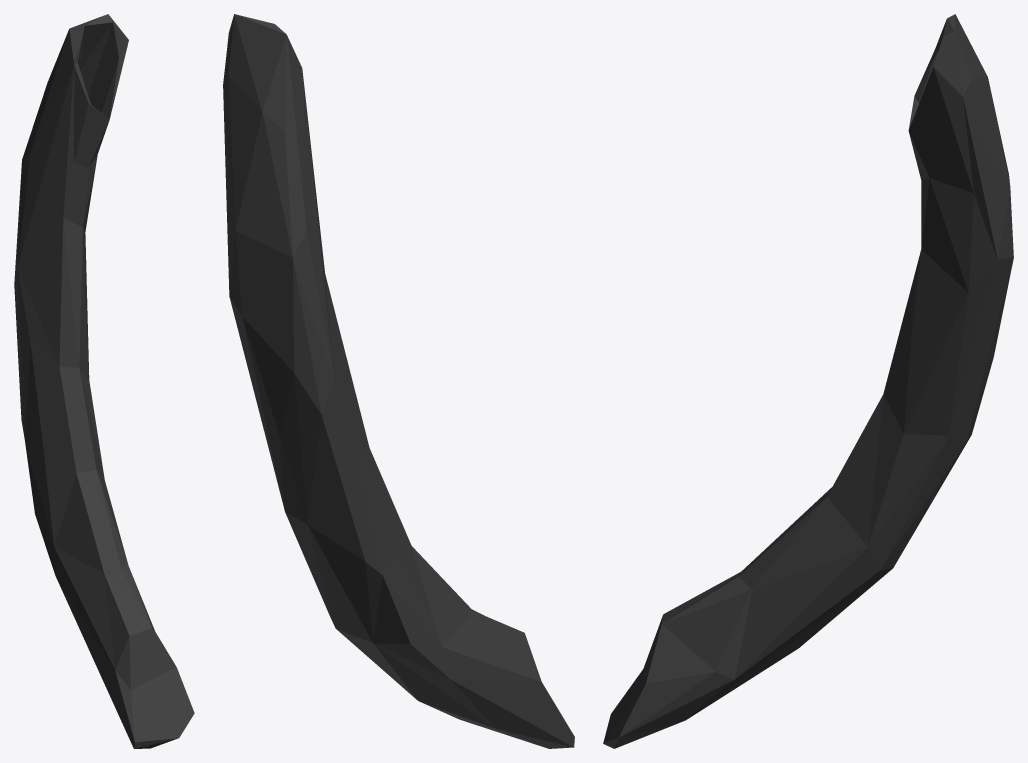
The picture shows the model from 3 angles, left to right: view 1: azimuth 30°, elevation 25°; view 2: azimuth 150°, elevation 25°; view 3: azimuth 270°, elevation 25°; orthographic projection. The views are drawn at different scales.
Parts seen in each view (by area): view 1: world; view 2: world; view 3: world.
Part boxes in pixels (box(x1,y1,x2,y2)): world: box(14, 14, 194, 748); world: box(223, 14, 574, 748); world: box(603, 14, 1013, 748).
Size of the model in its own units: 0.1474 by 0.6987 by 0.3398.
1 material, 1 textured.
